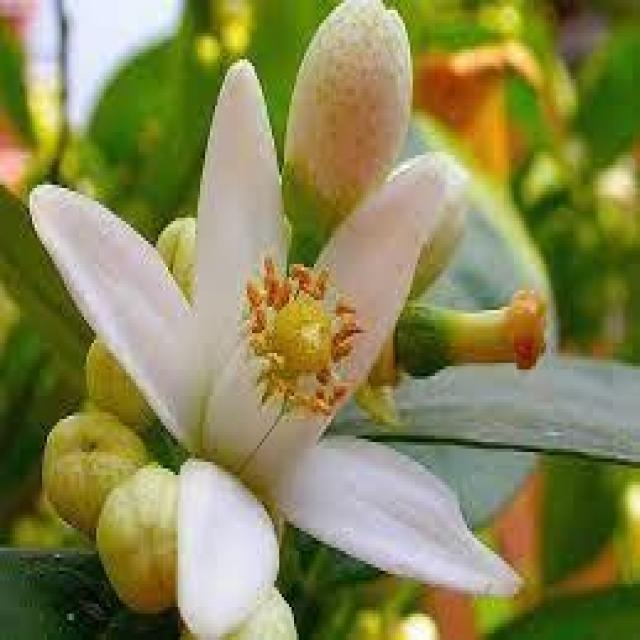Bunga: (29, 56, 526, 640), (284, 0, 415, 254), (99, 465, 202, 617), (44, 412, 154, 538), (401, 286, 548, 379)
